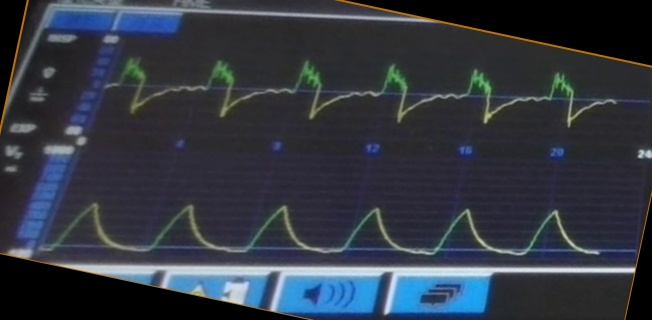Accumulation Flow: (116, 52, 588, 136)
Volume: (69, 177, 599, 263)
